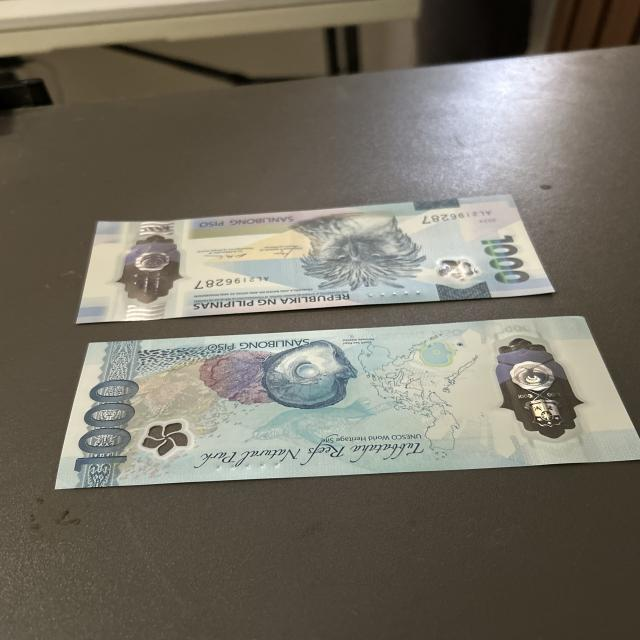clear_window: (484, 337, 598, 446), (121, 225, 186, 305)
eagle: (284, 208, 425, 287)
sampaguita: (141, 422, 197, 457), (433, 254, 480, 284)
value: (75, 376, 141, 472)
